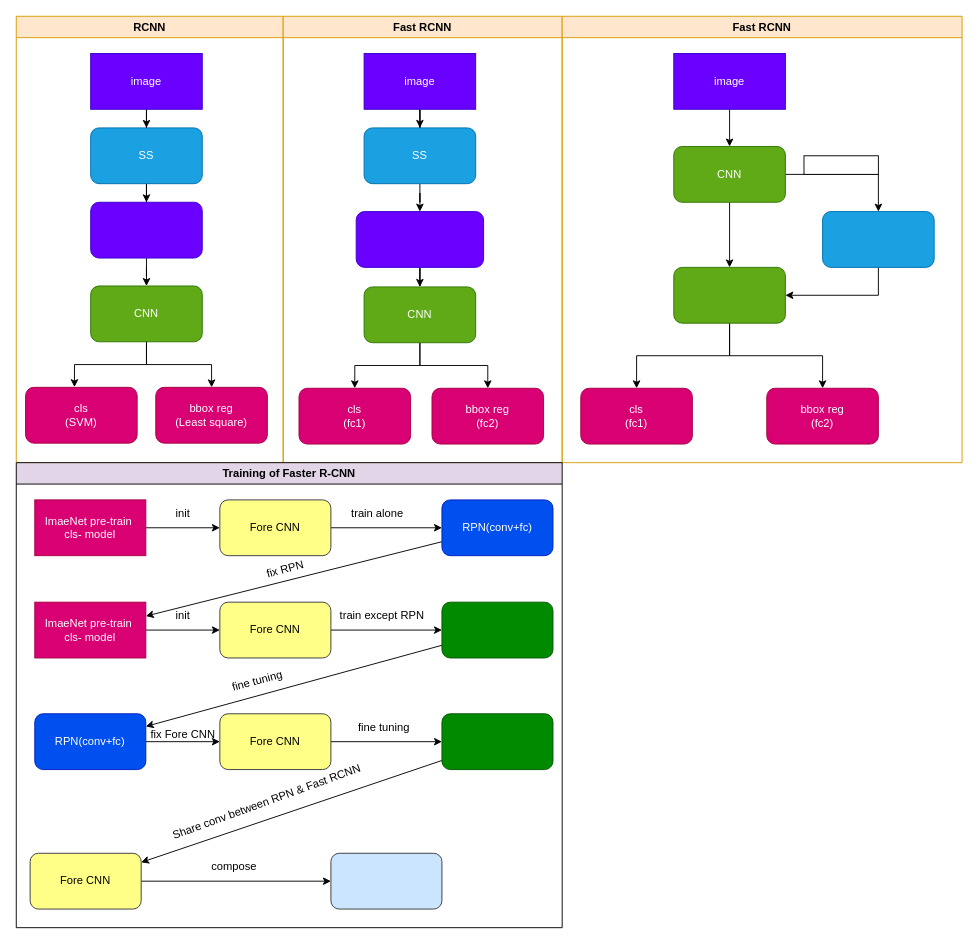
Image size: 978x944. Some labels were removed from this diagram. The shapes that lost their labels are listed below. From the top down, each one's centre as x and y in pixels, then its label:
[840,164]: feature map
[146,229]: each RoI in image
[419,239]: whole RoI projected in feature map
[878,239]: RPN
[729,294]: RoI pooling
[497,629]: Fast RCNN(conv+fc)
[497,741]: Fast RCNN(fc)
[386,880]: Faster RCNN
